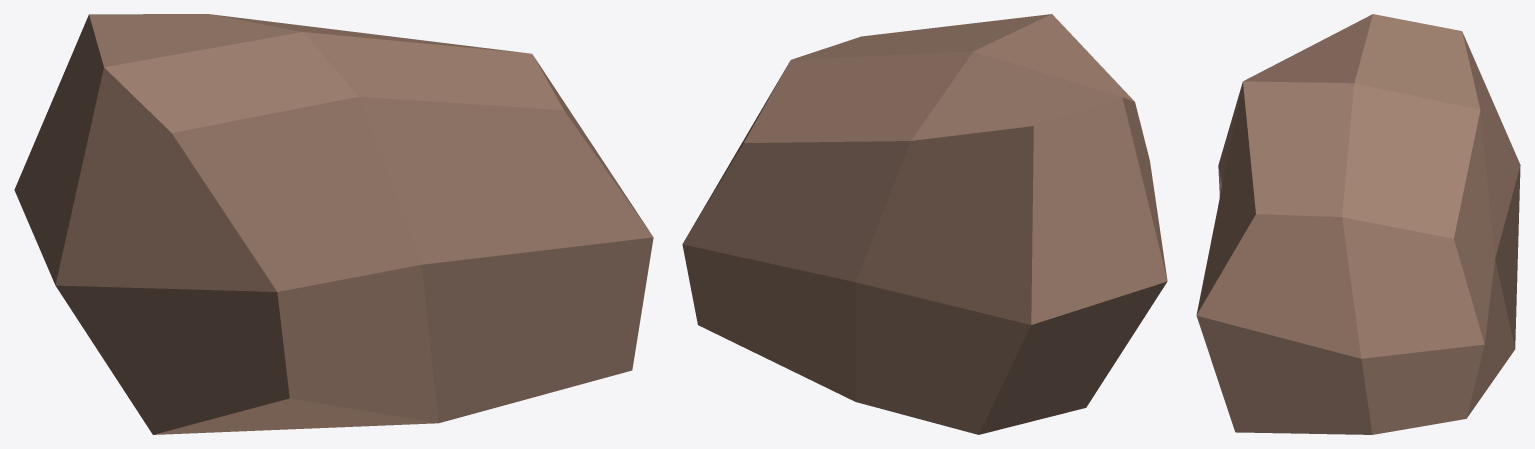
File: a_z1_rock_m.fbx
The picture shows the model from 3 angles, left to right: view 1: azimuth 30°, elevation 25°; view 2: azimuth 150°, elevation 25°; view 3: azimuth 270°, elevation 25°; orthographic projection. The views are drawn at different scales.
Parts seen in each view (by area): view 1: a_z1_rock_m; view 2: a_z1_rock_m; view 3: a_z1_rock_m.
Part boxes in pixels (box(x1,y1,x2,y2)): a_z1_rock_m: box(14, 14, 653, 434); a_z1_rock_m: box(682, 14, 1167, 434); a_z1_rock_m: box(1196, 14, 1520, 434).
Size of the model in its own units: 178 by 121 by 125.
